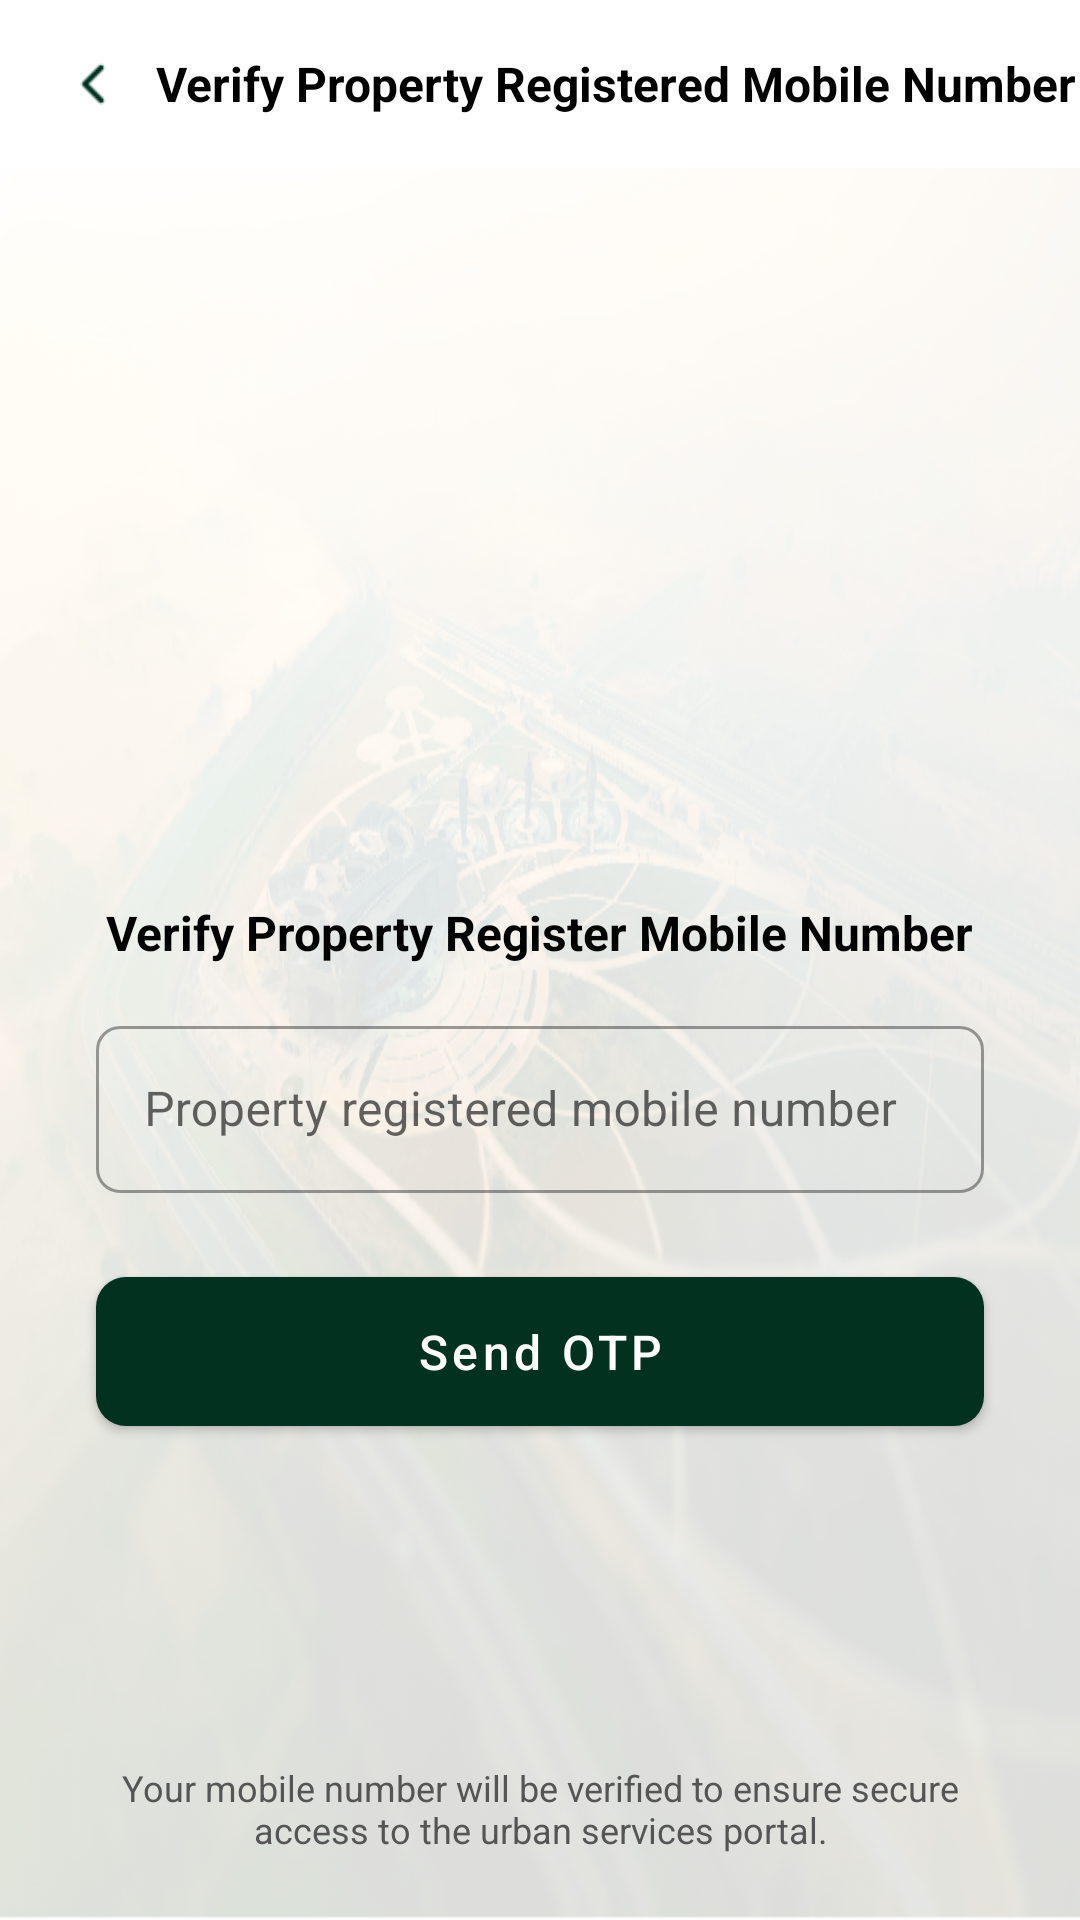

Where icons sit on this 1080×1920 app screen, as box=[x1, y1, x2, y2]:
left: box=[81, 64, 105, 105]
